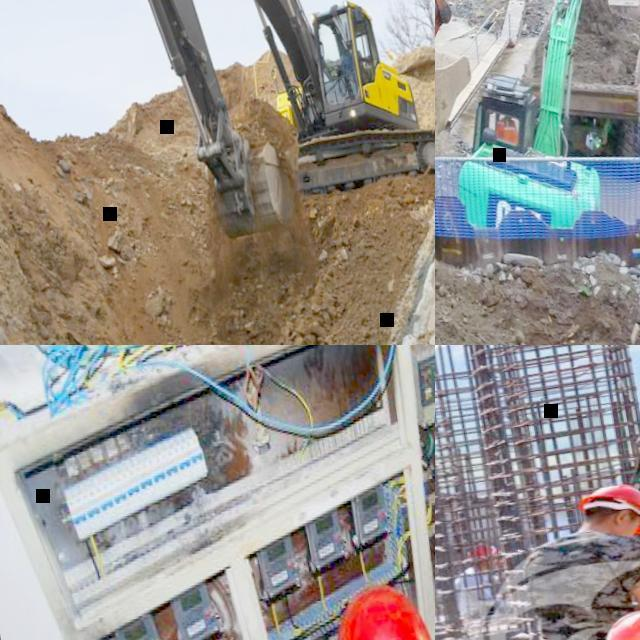helmet: (321, 578, 435, 640), (574, 478, 640, 547), (597, 598, 640, 640), (459, 538, 504, 564)
vest: (498, 116, 518, 143)
